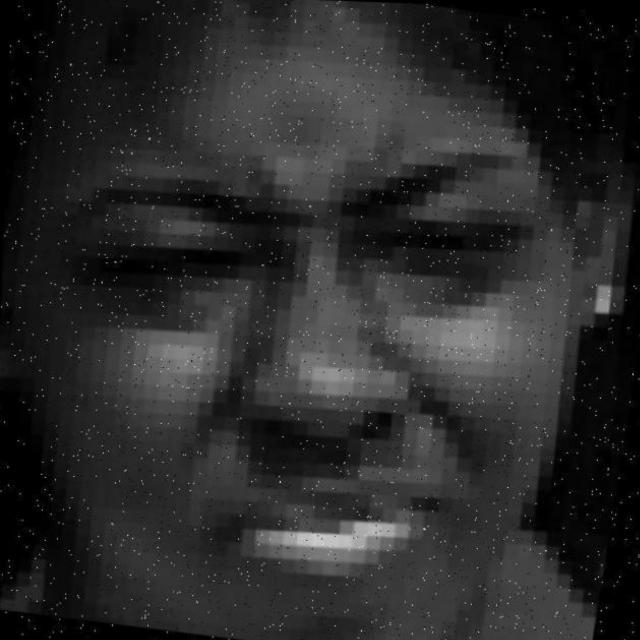Disgust: (13, 39, 636, 622)
